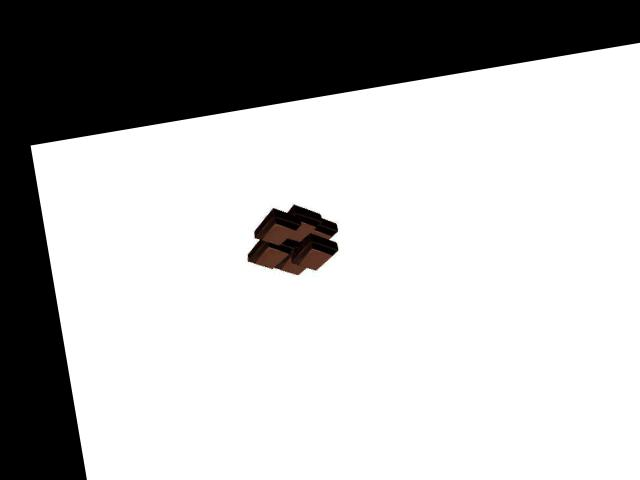chocolate: (241, 200, 347, 285)
